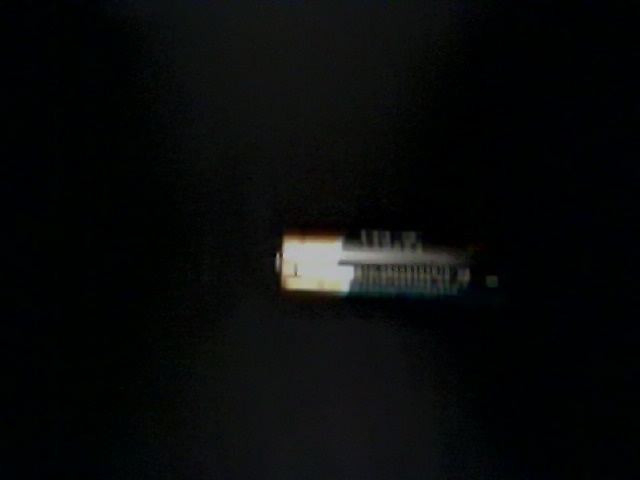QTLJ: (94, 179, 303, 340)
